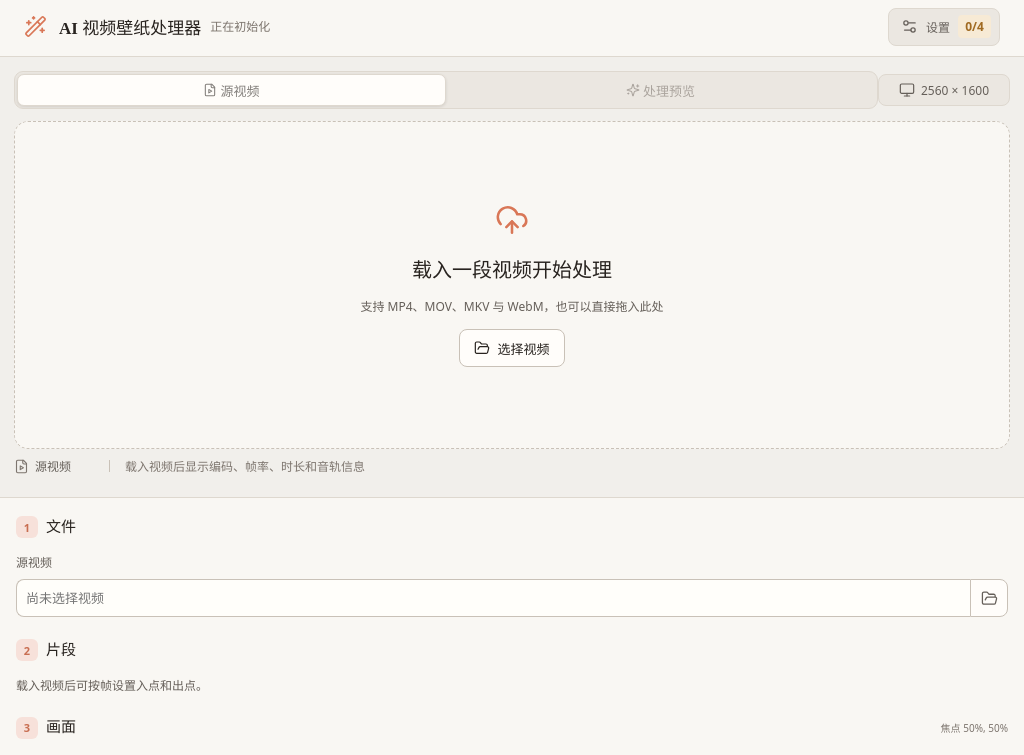
Test case: desktop processing controls › keeps video inspection available but clears output when path resolution fails
Click the button named "选择源视频".
click(989, 598)  # box [970,579,1008,617]
(page scrolled)
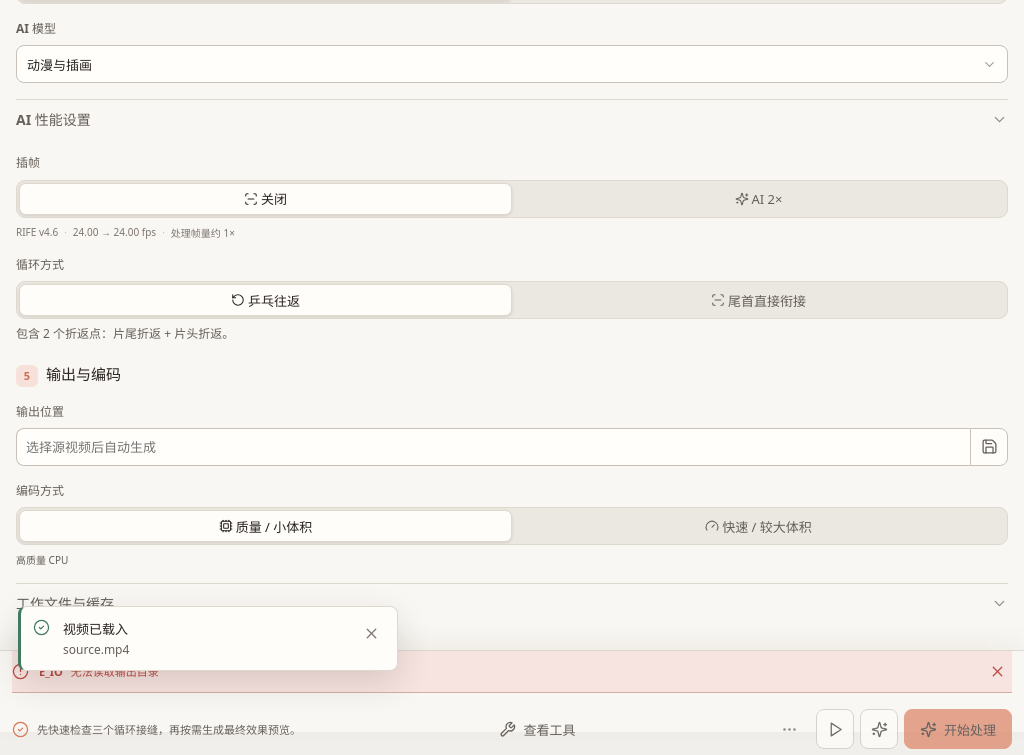
Expected: the field labelled "输出位置" is empty, [16,428,970,466]
Expected: the text "无法读取输出目录" is shown, [71,664,159,679]
